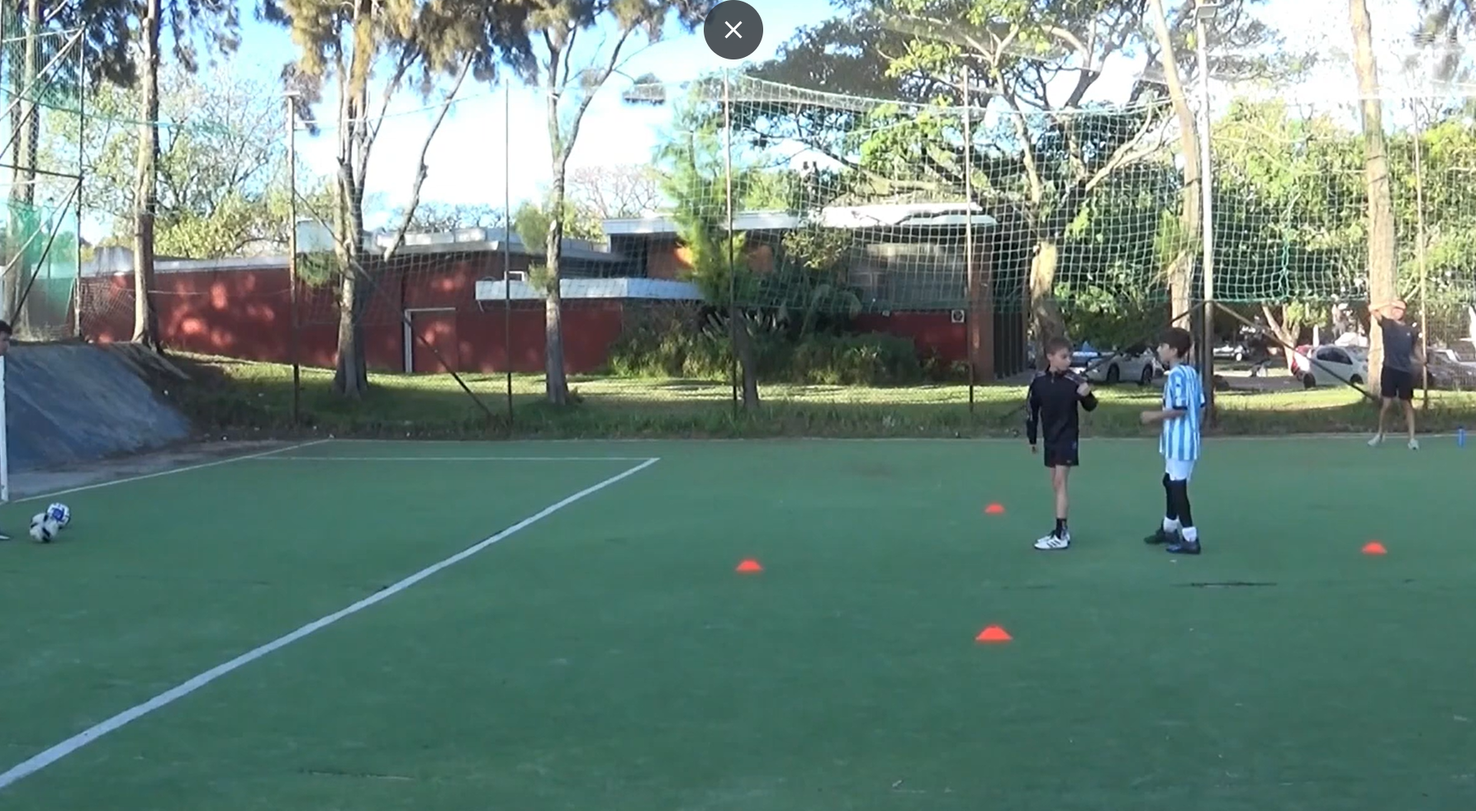cone: (958, 612, 1034, 659), (972, 478, 1018, 526), (1349, 528, 1404, 566), (725, 546, 775, 584)
